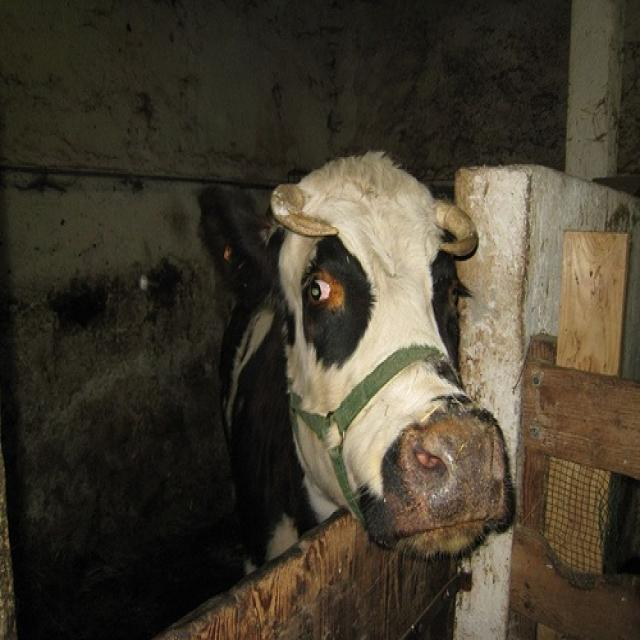cow: (198, 147, 512, 577)
